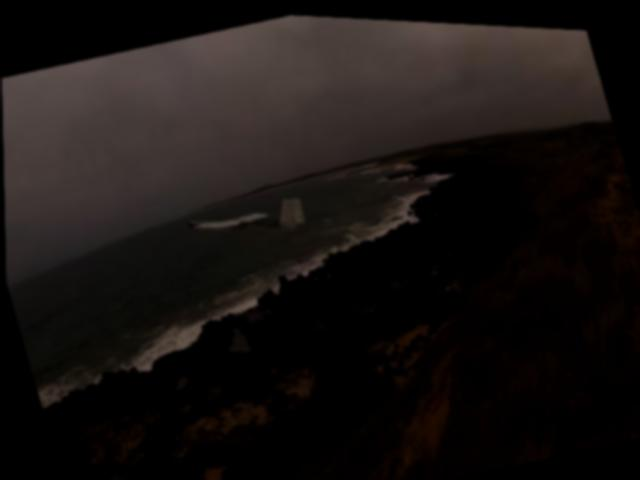uav: (178, 175, 316, 273)
